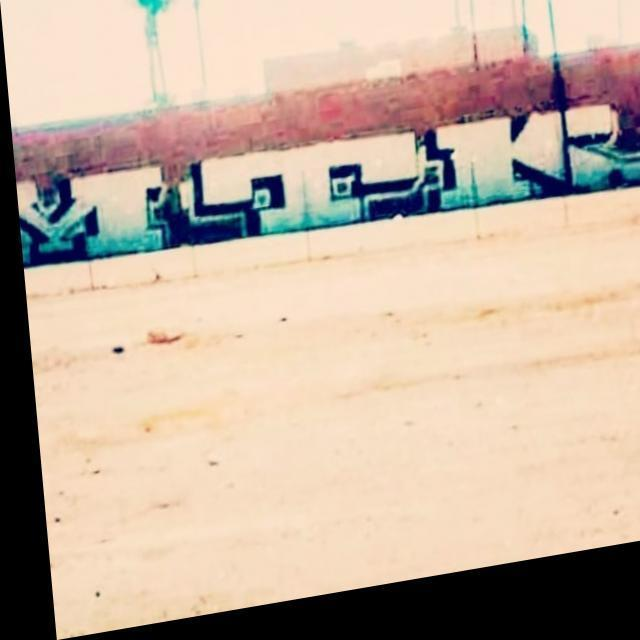-: (12, 90, 640, 291)
